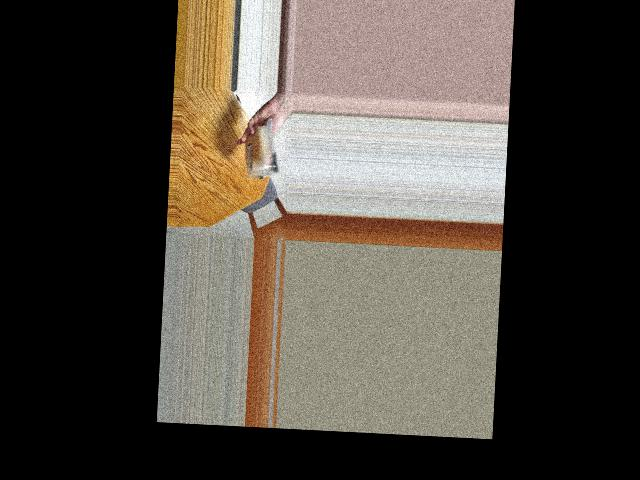cheese: (244, 127, 277, 175)
